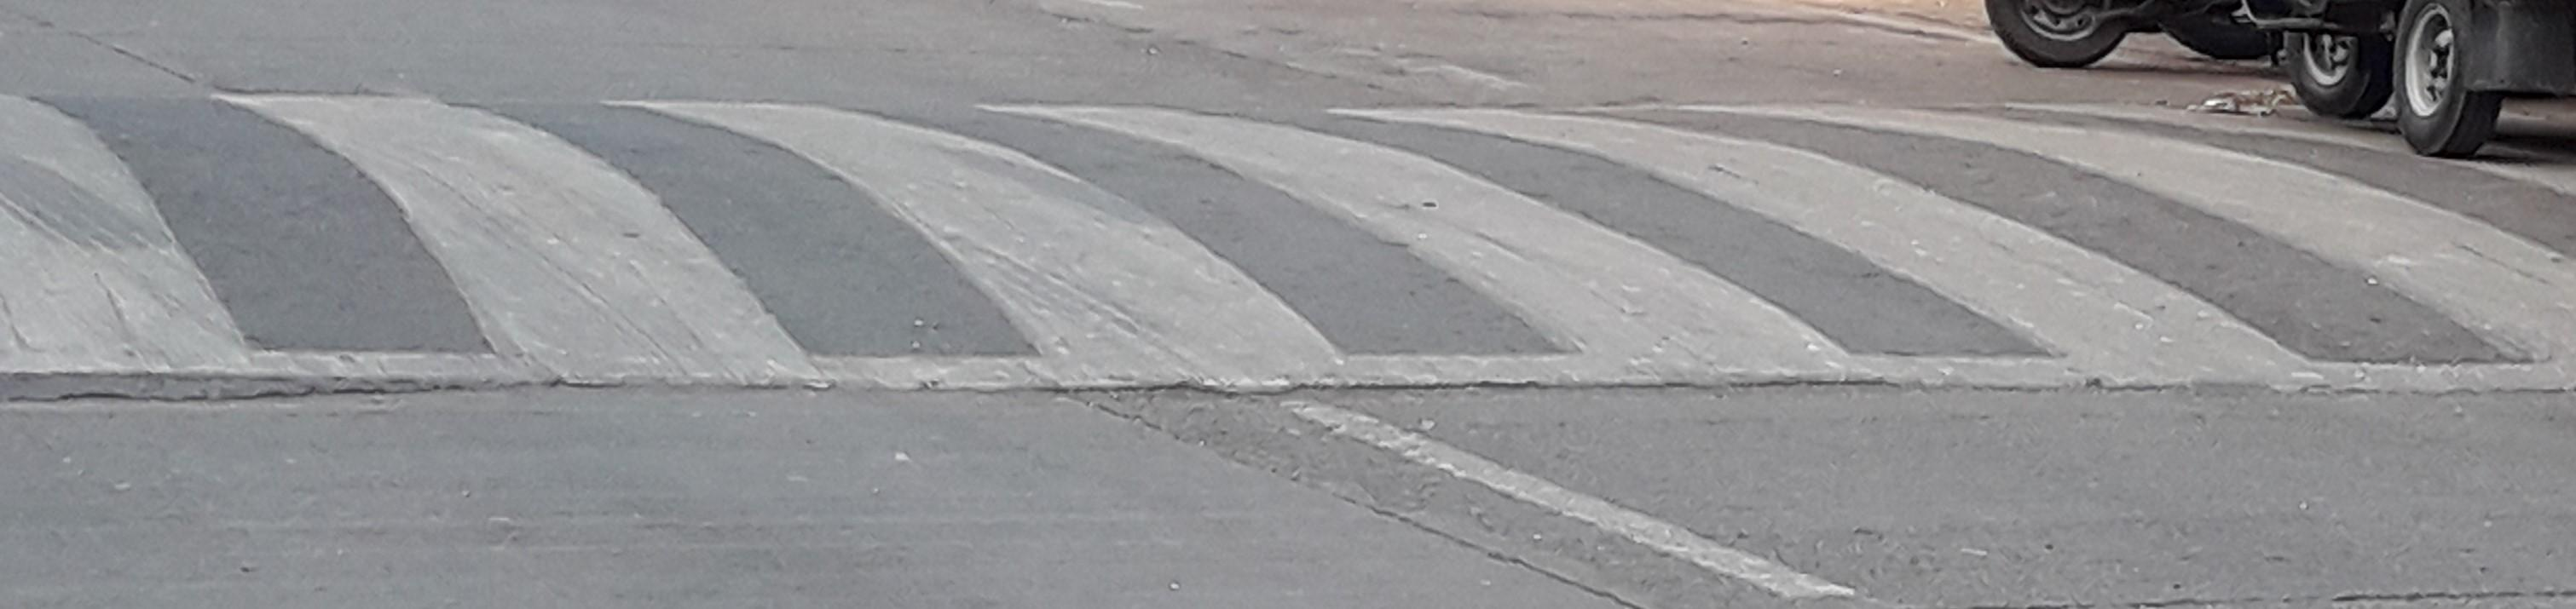speed-bump: (3, 86, 2562, 406)
